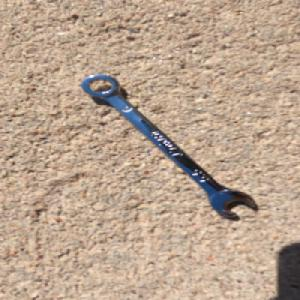Wrench: (80, 72, 258, 218)
